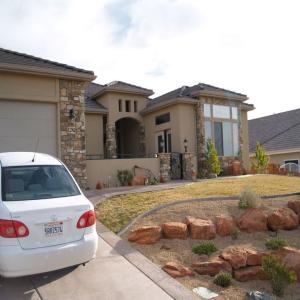Vehicle-registration-plate: (45, 224, 64, 238)
